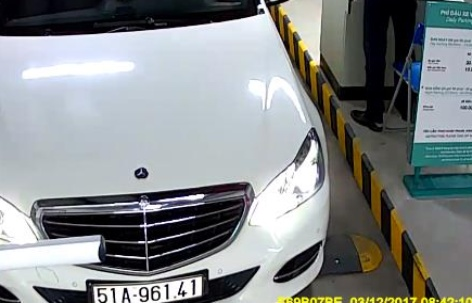plate: (85, 268, 222, 302)
